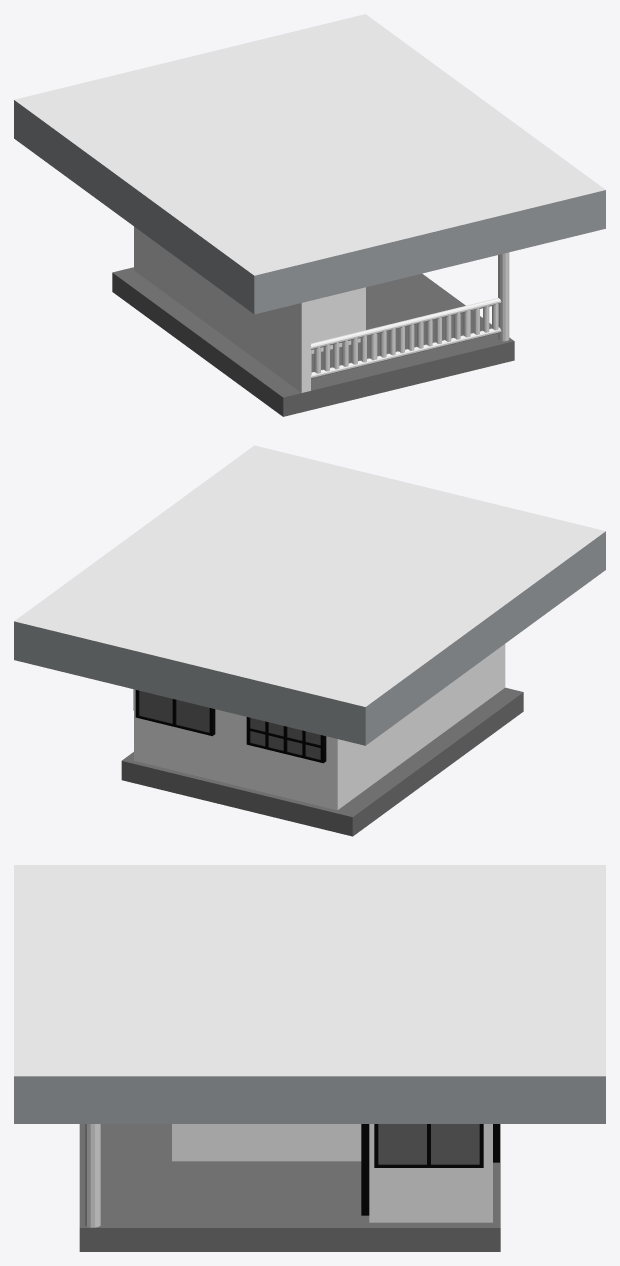
The model's file is GuardHause.glb.
3 renders of one model, top to bottom at view 1: azimuth 30°, elevation 25°; view 2: azimuth 150°, elevation 25°; view 3: azimuth 270°, elevation 25°, orthographic. The views are drawn at different scales.
Parts seen in each view (by area): view 1: cube.007; view 2: cube.007; view 3: cube.007.
Part boxes in pixels (box(x1,y1,x2,y2)): cube.007: box(14, 14, 605, 416); cube.007: box(14, 445, 605, 836); cube.007: box(14, 865, 605, 1251).
Bounding box in the file's own units: 2.38 × 1.12 × 2.81.
7 materials, 7 textured.
